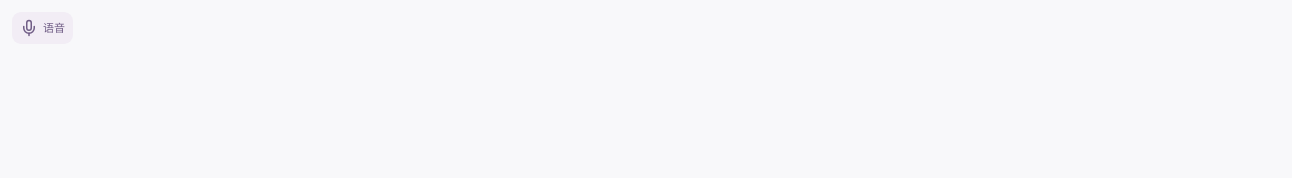
director voice input › retains a transcript if the chat has an uncertain prior send instead of overwriting it
The width and height of the screenshot is (1292, 178).
Step 1. Click the button with aria-label "语音输入" → (42, 28), box [12, 12, 73, 44]
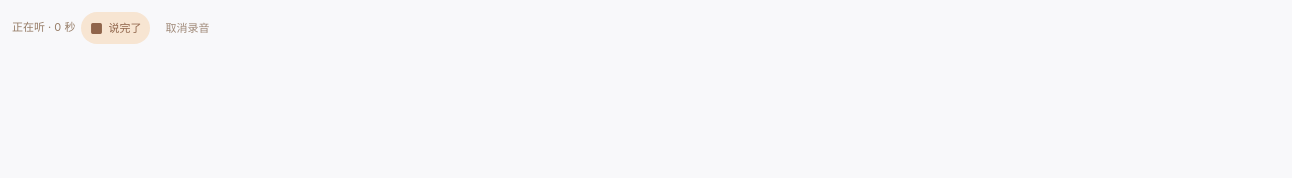
Now the text "正在听 · 0 秒" is shown, box [12, 19, 75, 37]
Step 2. Click the button "说完了" → (116, 28), box [81, 12, 150, 44]
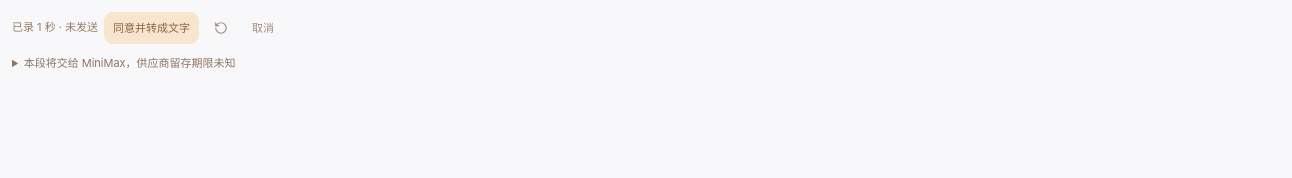
Step 3. Click the button "同意并转成文字" → (152, 28), box [104, 12, 199, 44]
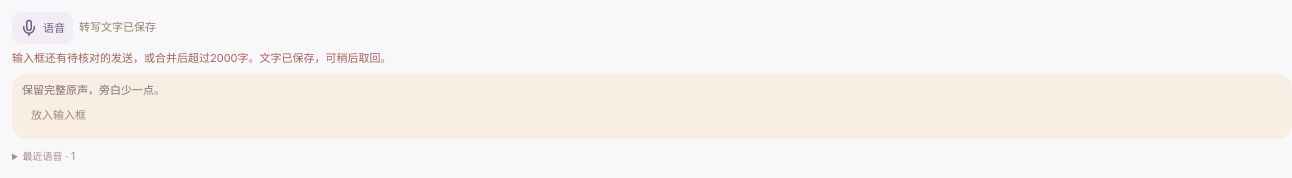
Now the text "转写文字已保存" is shown, box [79, 19, 156, 37]
Now the text "输入框还有待核对的发送，或合并后超过2000字。文字已保存，可稍后取回。" is shown, box [12, 51, 392, 65]
Now the text "保留完整原声，旁白少一点。" is shown, box [22, 83, 165, 97]
Step 4. Click the button "放入输入框" → (58, 115), box [22, 99, 95, 131]
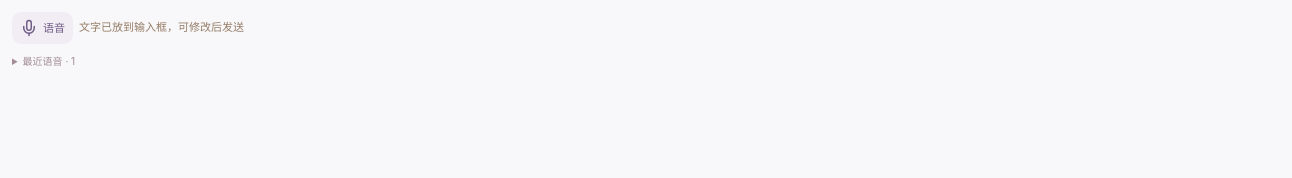
Now the text "文字已放到输入框，可修改后发送" is shown, box [79, 19, 244, 37]
